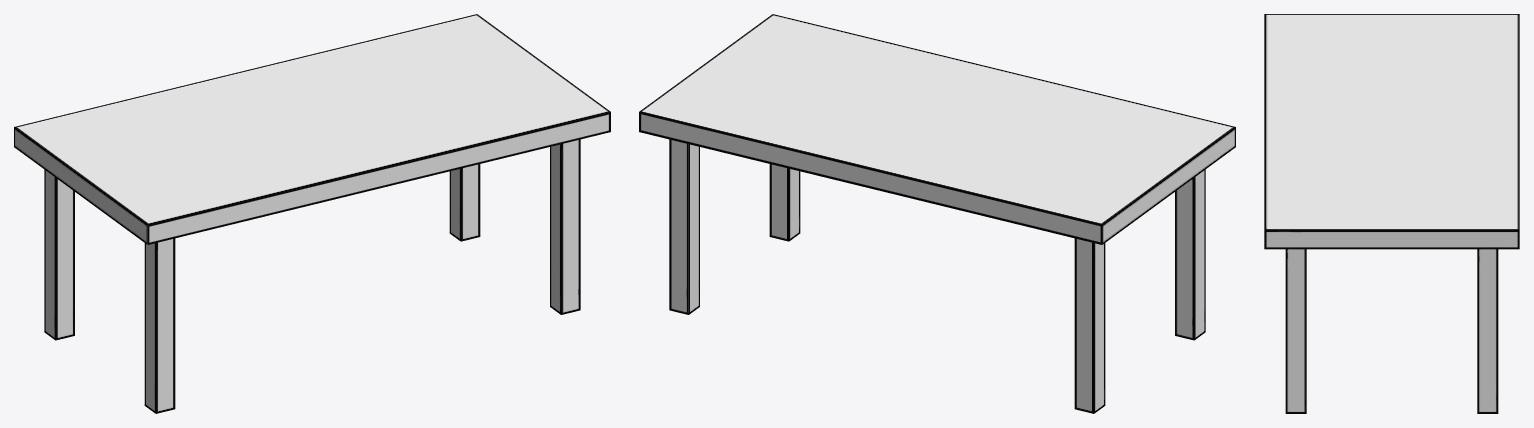
Rendered from table02.gltf.
3 renders of one model, left to right at view 1: azimuth 30°, elevation 25°; view 2: azimuth 150°, elevation 25°; view 3: azimuth 270°, elevation 25°, orthographic. The views are drawn at different scales.
Visible parts, largest first — view 1: Table; view 2: Table; view 3: Table.
Part boxes in pixels (x1,y1,x2,y2): Table: (14, 14, 610, 413); Table: (639, 14, 1235, 413); Table: (1264, 14, 1519, 413).
Size of what is drawn, in the model's own units: 2.4 by 1 by 1.2.
Materials: 5 (5 with a texture image).
